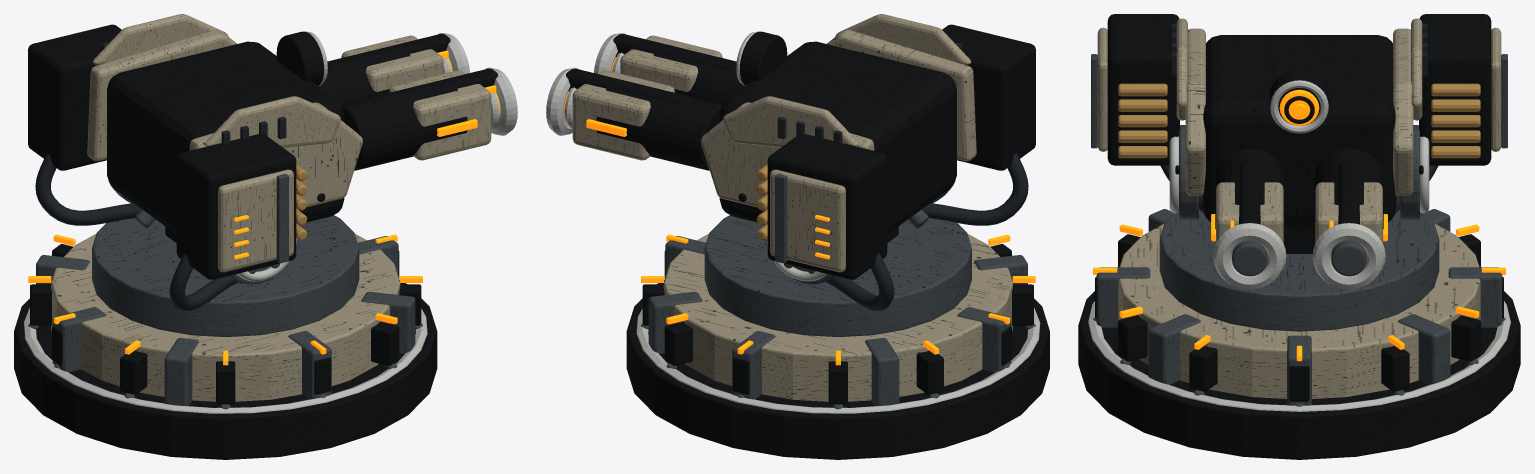
The model's file is turret.glb.
3 renders of one model, left to right at view 1: azimuth 30°, elevation 25°; view 2: azimuth 150°, elevation 25°; view 3: azimuth 270°, elevation 25°, orthographic. The views are drawn at different scales.
Parts seen in each view (by area): view 1: AimingHead_REF_dark, AnchoredBase_REF_dark, AnchoredBase_REF_steel, AimingHead_REF_ceramic, AnchoredBase_REF_ceramic, AimingHead_REF_rubber, AnchoredBase_REF_edge, AimingHead_REF_edge, AimingHead_REF_steel, AnchoredBase_REF_orange, AimingHead_REF_orange, AimingHead_REF_brass; view 2: AimingHead_REF_dark, AnchoredBase_REF_dark, AnchoredBase_REF_steel, AimingHead_REF_ceramic, AnchoredBase_REF_ceramic, AimingHead_REF_rubber, AnchoredBase_REF_edge, AimingHead_REF_edge, AimingHead_REF_steel, AnchoredBase_REF_orange, AimingHead_REF_orange, AimingHead_REF_brass; view 3: AimingHead_REF_dark, AnchoredBase_REF_dark, AnchoredBase_REF_steel, AnchoredBase_REF_ceramic, AimingHead_REF_ceramic, AimingHead_REF_edge, AimingHead_REF_brass, AimingHead_REF_steel, AnchoredBase_REF_edge, AnchoredBase_REF_orange, AimingHead_REF_orange, AimingHead_REF_rubber.
Part boxes in pixels (<box>): AimingHead_REF_dark: <box>28,24,497,279</box>; AnchoredBase_REF_dark: <box>14,244,437,459</box>; AnchoredBase_REF_steel: <box>28,215,422,409</box>; AimingHead_REF_ceramic: <box>87,14,491,272</box>; AnchoredBase_REF_ceramic: <box>51,234,400,401</box>; AimingHead_REF_rubber: <box>35,42,286,310</box>; AnchoredBase_REF_edge: <box>23,307,427,413</box>; AimingHead_REF_edge: <box>237,31,517,281</box>; AimingHead_REF_steel: <box>112,174,298,284</box>; AnchoredBase_REF_orange: <box>28,234,422,365</box>; AimingHead_REF_orange: <box>234,50,500,259</box>; AimingHead_REF_brass: <box>296,164,307,240</box>; AimingHead_REF_dark: <box>566,24,1035,279</box>; AnchoredBase_REF_dark: <box>626,244,1049,459</box>; AnchoredBase_REF_steel: <box>641,215,1035,409</box>; AimingHead_REF_ceramic: <box>572,14,976,272</box>; AnchoredBase_REF_ceramic: <box>663,234,1012,401</box>; AimingHead_REF_rubber: <box>777,42,1028,310</box>; AnchoredBase_REF_edge: <box>636,307,1040,413</box>; AimingHead_REF_edge: <box>546,31,826,281</box>; AimingHead_REF_steel: <box>765,174,951,284</box>; AnchoredBase_REF_orange: <box>641,234,1035,365</box>; AimingHead_REF_orange: <box>563,57,829,259</box>; AimingHead_REF_brass: <box>756,164,767,240</box>; AimingHead_REF_dark: <box>1107,14,1491,253</box>; AnchoredBase_REF_dark: <box>1078,234,1520,459</box>; AnchoredBase_REF_steel: <box>1093,209,1505,406</box>; AnchoredBase_REF_ceramic: <box>1118,224,1480,398</box>; AimingHead_REF_ceramic: <box>1097,18,1501,242</box>; AimingHead_REF_edge: <box>1169,80,1429,289</box>; AimingHead_REF_brass: <box>1118,83,1480,158</box>; AimingHead_REF_steel: <box>1091,54,1507,276</box>; AnchoredBase_REF_edge: <box>1088,301,1510,411</box>; AnchoredBase_REF_orange: <box>1093,224,1505,361</box>; AimingHead_REF_orange: <box>1211,89,1387,241</box>; AimingHead_REF_rubber: <box>1160,24,1438,214</box>.
Size of the model in its own units: 1.18 by 0.812 by 0.98.
Materials: 7 (3 with a texture image).
